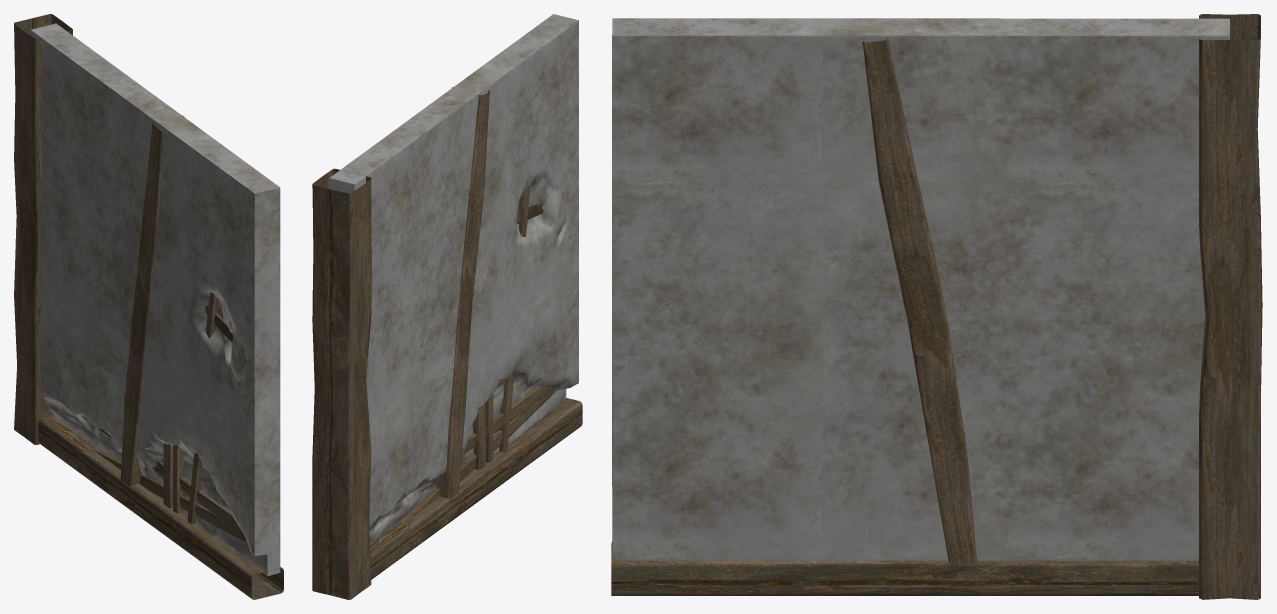
Rendered from SM_Wall34.fbx.
3 renders of one model, left to right at view 1: azimuth 30°, elevation 25°; view 2: azimuth 150°, elevation 25°; view 3: azimuth 270°, elevation 25°, orthographic. The views are drawn at different scales.
Parts seen in each view (by area): view 1: SM_Wall34_LOD0; view 2: SM_Wall34_LOD0; view 3: SM_Wall34_LOD0.
Part boxes in pixels (x1=…): SM_Wall34_LOD0: x1=14, y1=14, x2=283, y2=599; SM_Wall34_LOD0: x1=312, y1=14, x2=582, y2=599; SM_Wall34_LOD0: x1=611, y1=14, x2=1262, y2=599.
Size of the model in its own units: 32.43 by 316 by 300.
